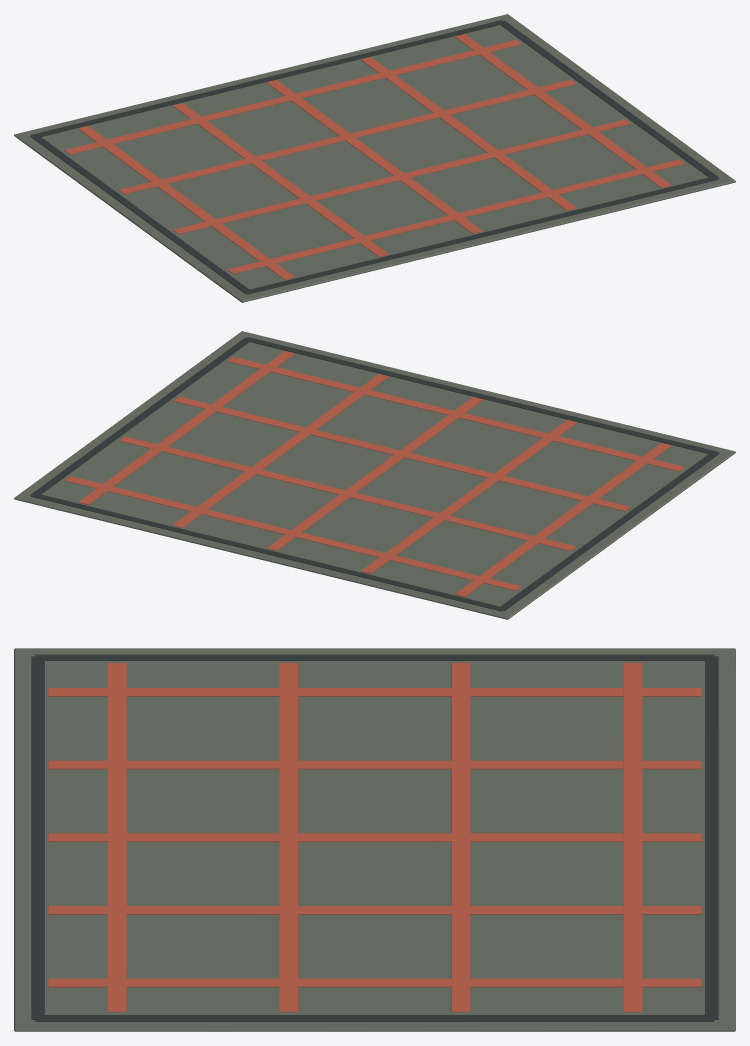
Rendered from floor-decor.glb.
3 views of the same model, one above another, from view 1: azimuth 30°, elevation 25°; view 2: azimuth 150°, elevation 25°; view 3: azimuth 270°, elevation 25° (orthographic). The views are drawn at different scales.
Parts seen in each view (by area): view 1: mountain-cabin floor-decor; view 2: mountain-cabin floor-decor; view 3: mountain-cabin floor-decor.
Boxes of the visible parts, x1,y1,x2,y2 form: mountain-cabin floor-decor: (14,14,735,302); mountain-cabin floor-decor: (14,331,735,619); mountain-cabin floor-decor: (14,648,735,1031).
Bounding box in the file's own units: 5.25 × 0.028 × 4.2.
